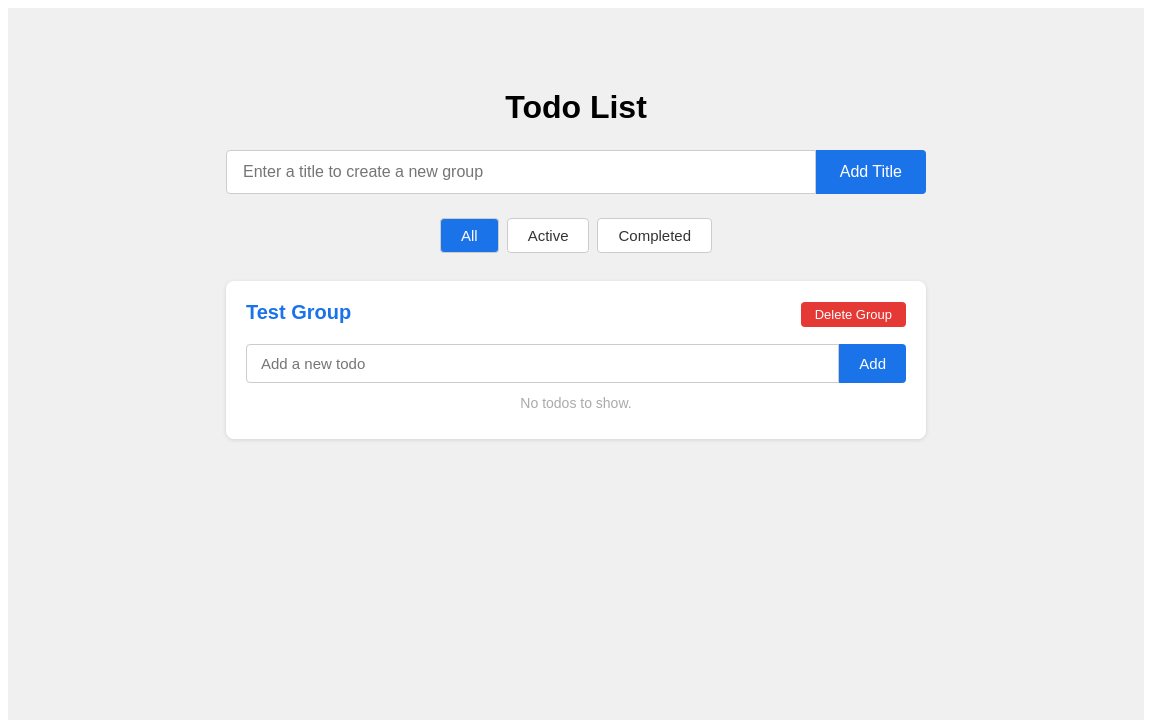
Test: Todo operations › adds a todo to a group
Expected: the heading "Test Group" is shown, [246,301,351,324]
Type "Buy groceries" into the field with test id "todo-input". click: x=543, y=364
box: [246,344,839,383]
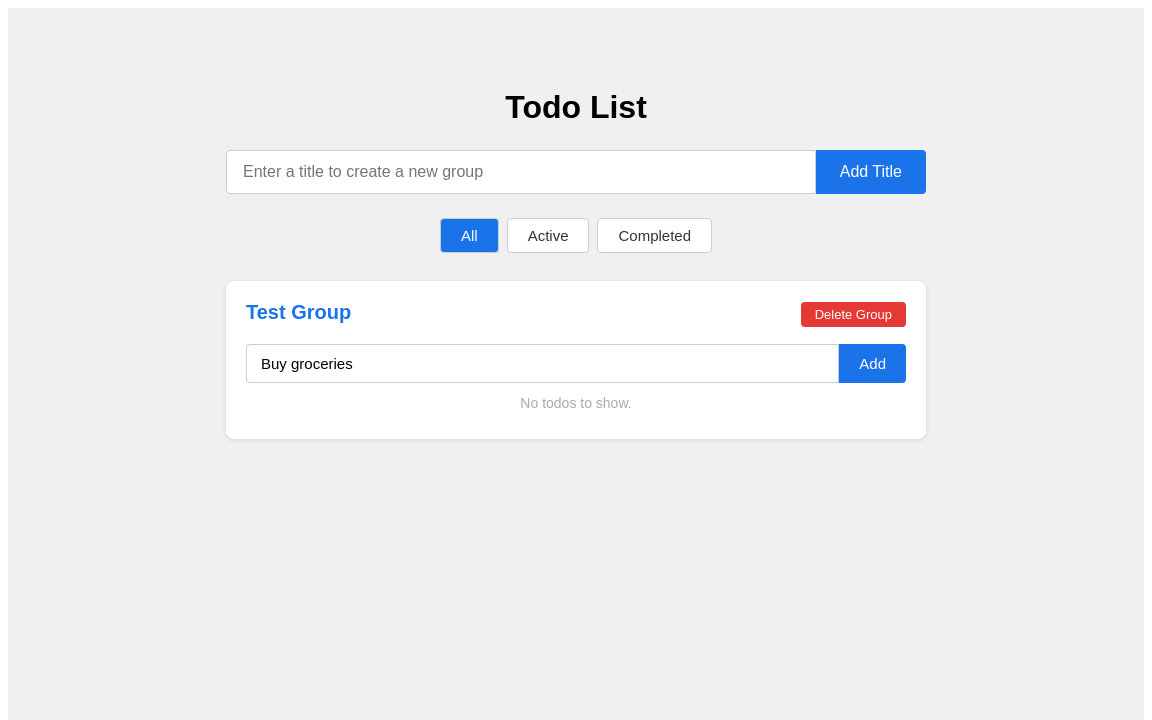
Click the button with test id "add-btn". click: x=873, y=364
box: [839,344,906,383]
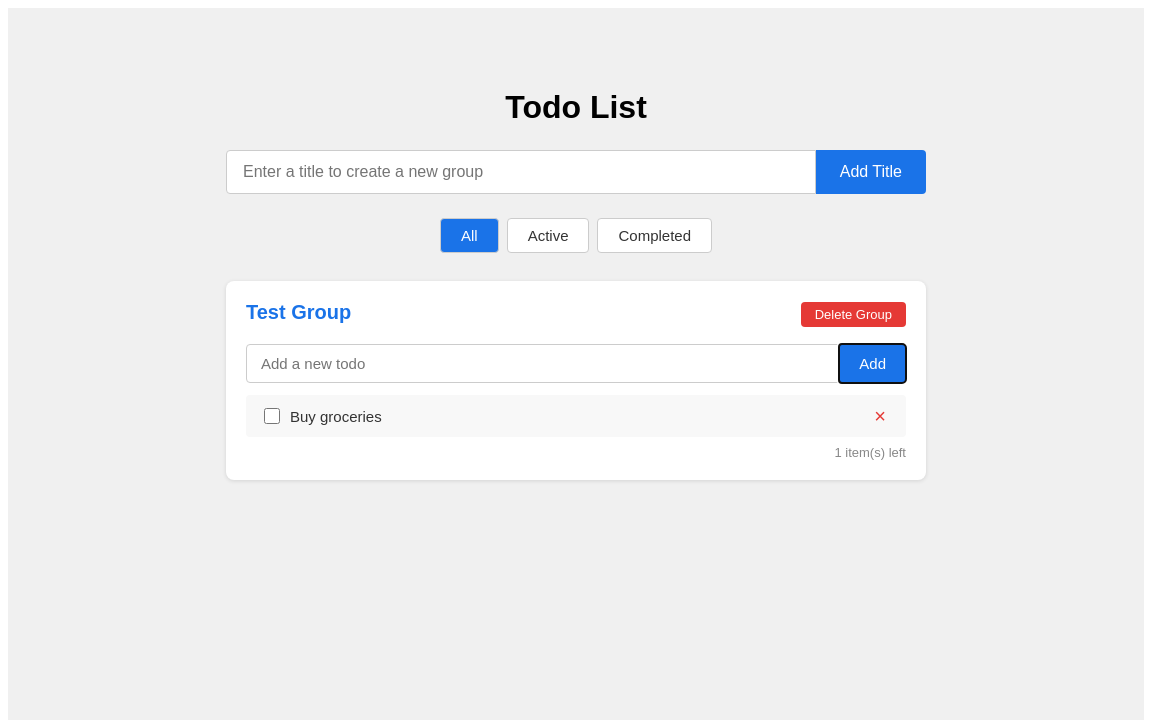
Now the text "Buy groceries" is shown, box [290,408,382,425]
